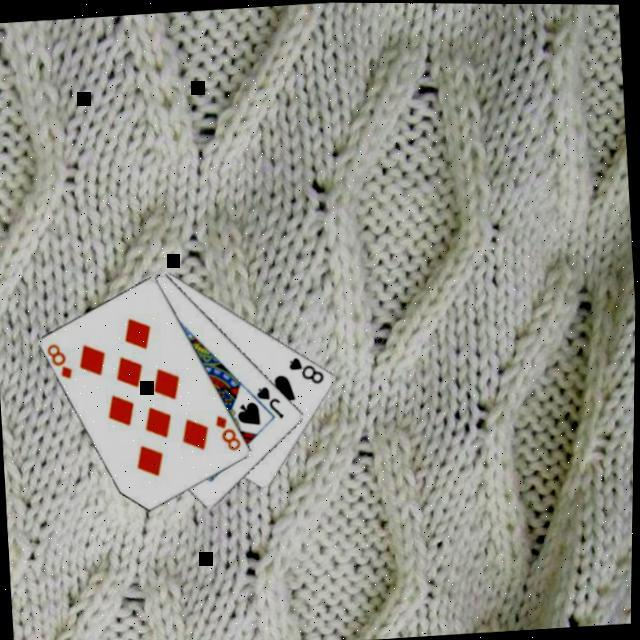8D: (213, 410, 247, 454), (46, 340, 79, 384)
8S: (287, 351, 329, 388)
JS: (254, 382, 289, 423)
